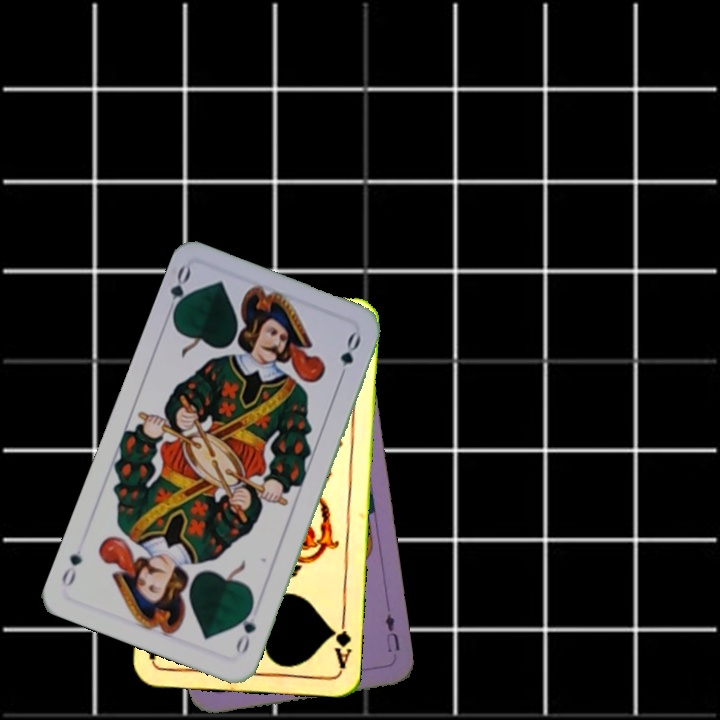EU: (381, 610, 403, 655)
GA: (327, 612, 354, 671)
GO: (161, 262, 195, 322), (232, 600, 259, 658)
